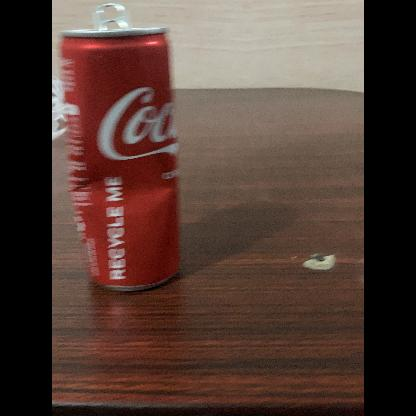Dent_Can: (78, 162, 174, 236), (70, 186, 88, 204)
Lid_Open: (86, 0, 140, 48)
Tin_Can: (58, 0, 190, 302)
